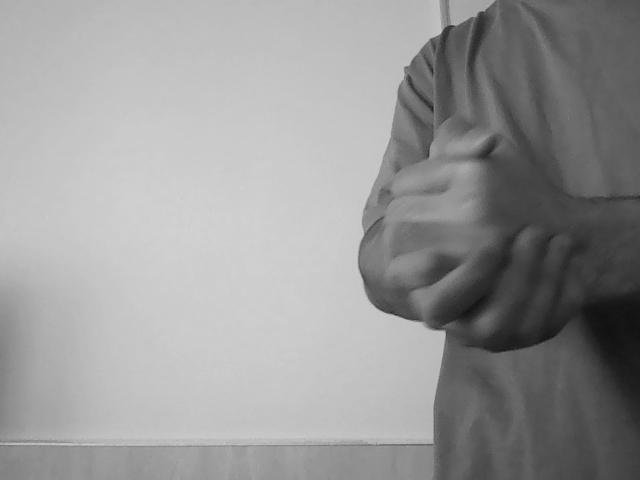friend: (368, 117, 599, 358)
